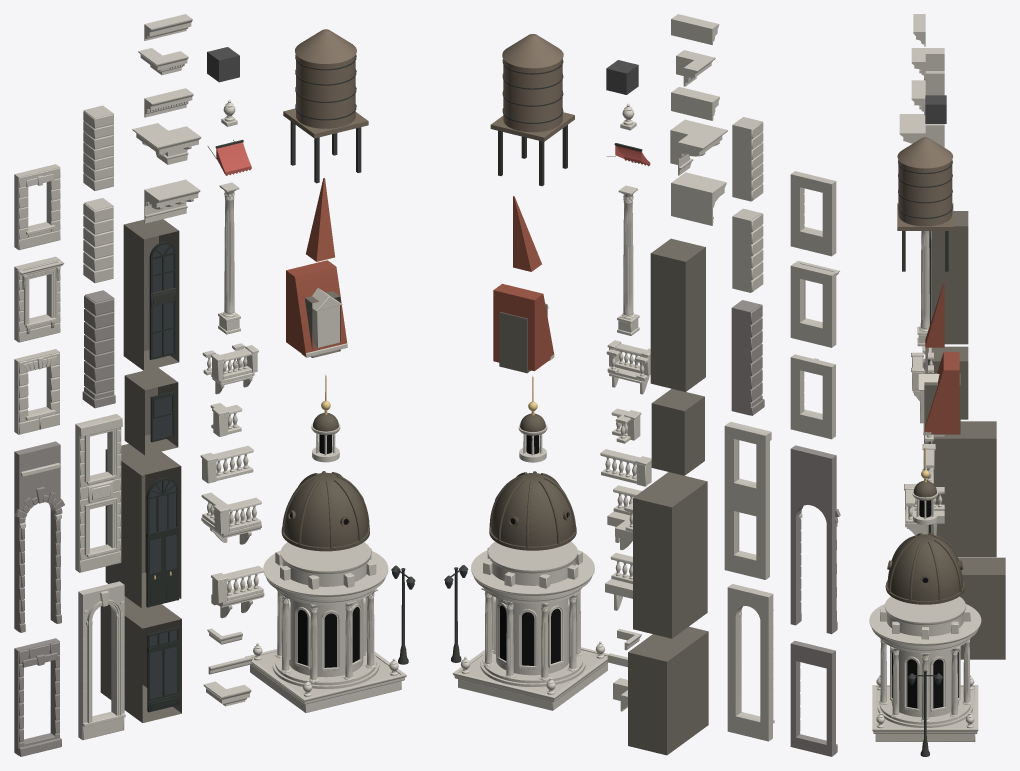
File: gillender_kit.glb
3 renders of one model, left to right at view 1: azimuth 30°, elevation 25°; view 2: azimuth 150°, elevation 25°; view 3: azimuth 270°, elevation 25°, orthographic. The views are drawn at different scales.
Visible parts, largest first — view 1: SM_Tempietto, SM_Door_Entrance, SM_Window_Arch_2F, SM_Window_Shop, SM_Water_Tank, SM_Wall_Colonnade_2F, SM_Dome, SM_Wall_Ground_Entrance, SM_Wall_Arch_2F, SM_Mansard, SM_Window_Sash, SM_Pier_Corner_Ground (+22 smaller); view 2: SM_Tempietto, SM_Door_Entrance, SM_Window_Shop, SM_Window_Arch_2F, SM_Water_Tank, SM_Wall_Colonnade_2F, SM_Wall_Ground_Entrance, SM_Dome, SM_Wall_Arch_2F, SM_Mansard, SM_Window_Sash, SM_Pier_Corner_Ground (+20 smaller); view 3: SM_Tempietto, SM_Door_Entrance, SM_Water_Tank, SM_Dome, SM_Window_Arch_2F, SM_Window_Shop, SM_Mansard, SM_Cornice_Main_Corner, SM_Column_2F, SM_Lantern, SM_Window_Sash, SM_Balcony_Corner (+9 smaller).
Part boxes in pixels (x1=…): SM_Tempietto: x1=245, y1=542, x2=406, y2=712; SM_Door_Entrance: x1=105, y1=444, x2=181, y2=608; SM_Window_Arch_2F: x1=123, y1=219, x2=179, y2=370; SM_Window_Shop: x1=100, y1=596, x2=181, y2=722; SM_Water_Tank: x1=283, y1=29, x2=368, y2=183; SM_Wall_Colonnade_2F: x1=75, y1=414, x2=122, y2=572; SM_Dome: x1=281, y1=471, x2=369, y2=551; SM_Wall_Ground_Entrance: x1=14, y1=441, x2=64, y2=632; SM_Wall_Arch_2F: x1=78, y1=581, x2=125, y2=740; SM_Mansard: x1=286, y1=260, x2=347, y2=357; SM_Window_Sash: x1=124, y1=367, x2=178, y2=455; SM_Pier_Corner_Ground: x1=82, y1=290, x2=115, y2=408; SM_Tempietto: x1=452, y1=541, x2=608, y2=710; SM_Door_Entrance: x1=633, y1=472, x2=707, y2=638; SM_Window_Shop: x1=628, y1=626, x2=708, y2=755; SM_Window_Arch_2F: x1=650, y1=238, x2=705, y2=391; SM_Water_Tank: x1=490, y1=34, x2=574, y2=186; SM_Wall_Colonnade_2F: x1=724, y1=421, x2=771, y2=579; SM_Wall_Ground_Entrance: x1=790, y1=445, x2=840, y2=634; SM_Dome: x1=489, y1=471, x2=576, y2=550; SM_Wall_Arch_2F: x1=727, y1=584, x2=774, y2=741; SM_Mansard: x1=493, y1=283, x2=554, y2=373; SM_Window_Sash: x1=651, y1=388, x2=704, y2=475; SM_Pier_Corner_Ground: x1=731, y1=300, x2=764, y2=415; SM_Tempietto: x1=869, y1=596, x2=981, y2=741; SM_Door_Entrance: x1=927, y1=421, x2=996, y2=557; SM_Water_Tank: x1=897, y1=137, x2=953, y2=271; SM_Dome: x1=885, y1=533, x2=964, y2=604; SM_Window_Arch_2F: x1=929, y1=211, x2=968, y2=344; SM_Window_Shop: x1=958, y1=557, x2=1005, y2=659; SM_Mansard: x1=918, y1=352, x2=960, y2=435; SM_Cornice_Main_Corner: x1=899, y1=114, x2=944, y2=147; SM_Column_2F: x1=917, y1=231, x2=929, y2=346; SM_Lantern: x1=912, y1=446, x2=938, y2=524; SM_Window_Sash: x1=928, y1=346, x2=968, y2=419; SM_Balcony_Corner: x1=904, y1=484, x2=944, y2=535.
Size of the model in its own units: 18.88 by 32.25 by 6.35.
